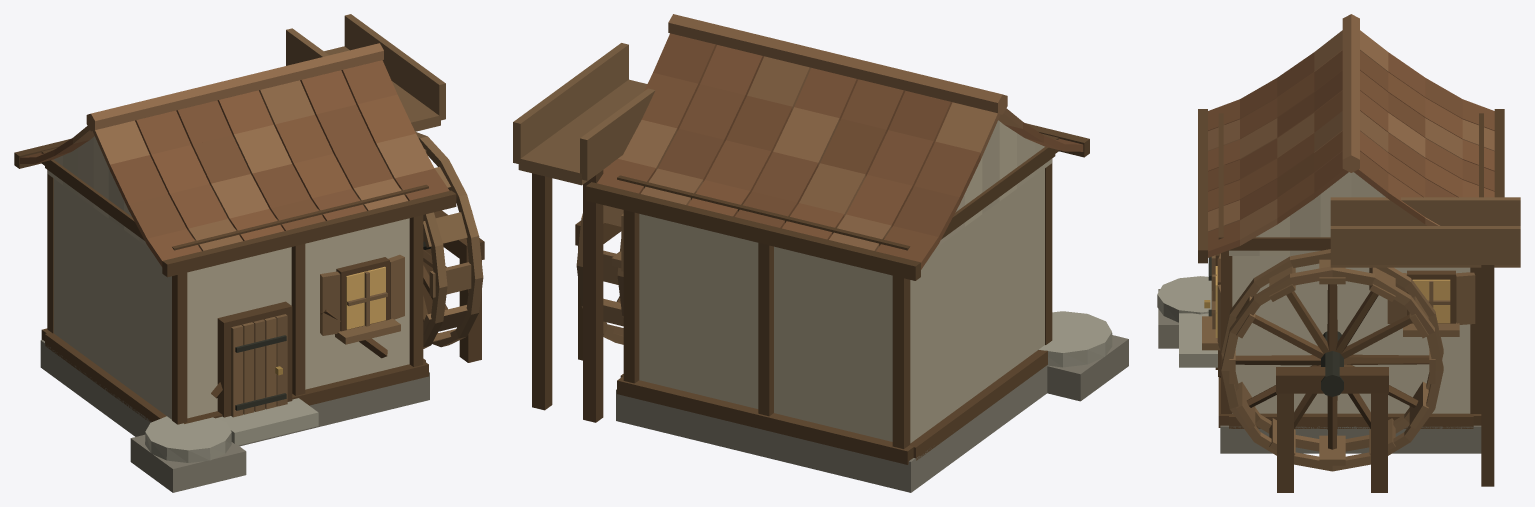
The model's file is watermill.glb.
3 renders of one model, left to right at view 1: azimuth 30°, elevation 25°; view 2: azimuth 150°, elevation 25°; view 3: azimuth 270°, elevation 25°, orthographic. The views are drawn at different scales.
Visible parts, largest first — view 1: watermill; view 2: watermill; view 3: watermill.
Part boxes in pixels (box(x1,y1,x2,y2)): watermill: box(14, 14, 484, 492); watermill: box(513, 14, 1128, 492); watermill: box(1157, 14, 1520, 492).
Bounding box in the file's own units: 4.59 × 3.59 × 3.86.
